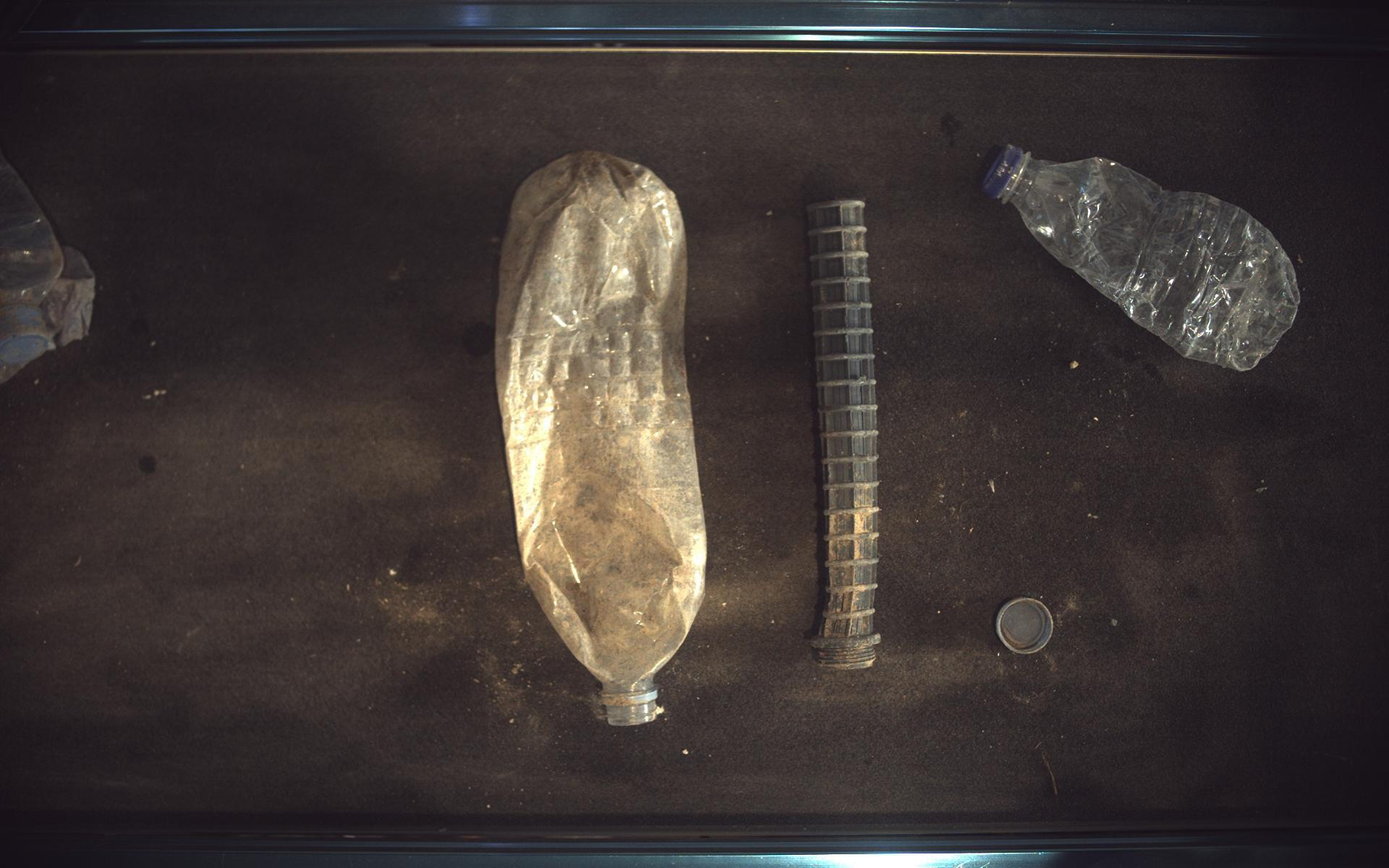general_w: (496, 150, 708, 727), (984, 144, 1303, 370), (998, 600, 1055, 655)
plastic: (809, 199, 883, 671), (1, 153, 64, 368)
